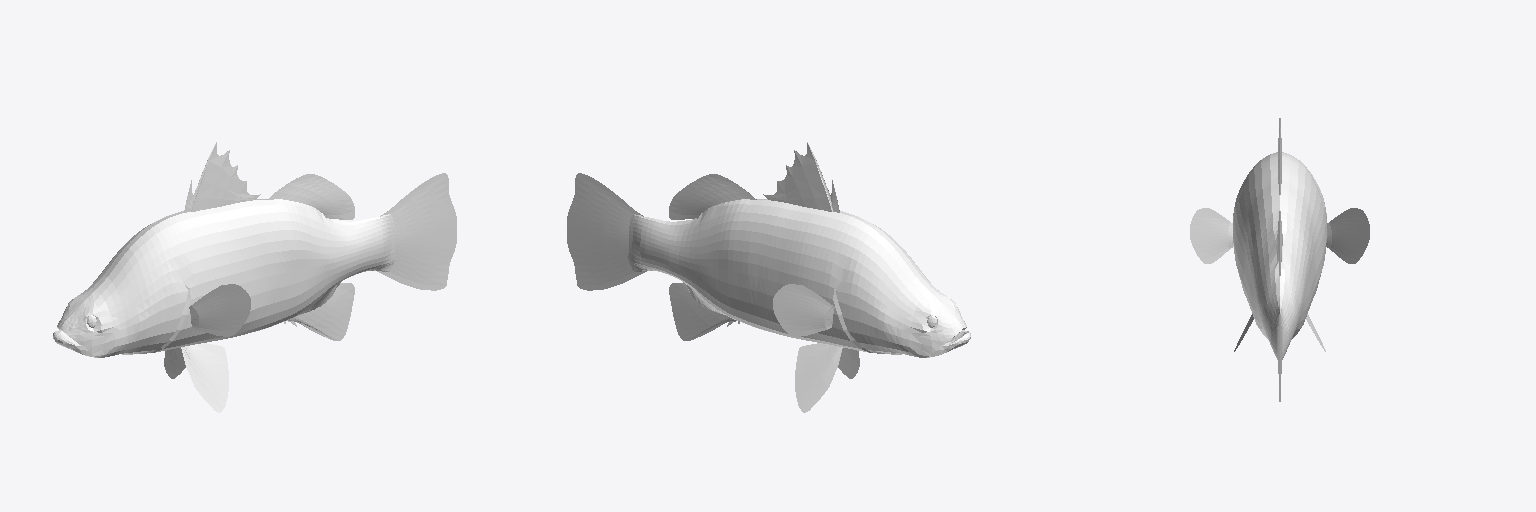
Rendered from PEZ1.obj.
The picture shows the model from 3 angles: view 1: azimuth 30°, elevation 25°; view 2: azimuth 150°, elevation 25°; view 3: azimuth 270°, elevation 25°; orthographic projection.
Visible parts, largest first — view 1: PEZ; view 2: PEZ; view 3: PEZ.
Boxes of the visible parts, x1=… form: PEZ: x1=53, y1=142, x2=456, y2=412; PEZ: x1=567, y1=142, x2=970, y2=412; PEZ: x1=1190, y1=118, x2=1369, y2=401.
Bounding box in the file's own units: 40.83 × 24.29 × 15.89.